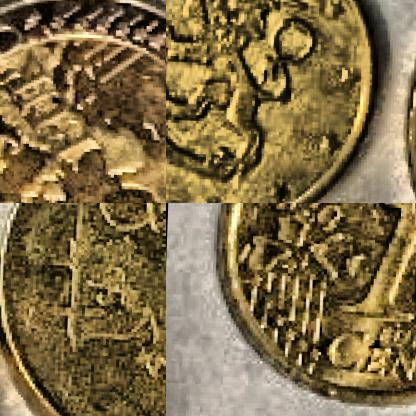coin: (166, 0, 393, 202), (210, 203, 415, 408), (0, 203, 165, 415), (0, 0, 165, 202)
